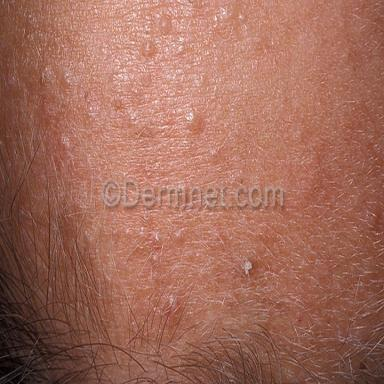acne: (185, 112, 203, 132), (166, 294, 181, 316), (60, 66, 73, 89), (141, 39, 156, 57), (159, 16, 172, 35), (241, 261, 255, 277), (174, 228, 185, 246), (61, 134, 70, 149), (152, 231, 160, 245), (153, 254, 158, 261)
